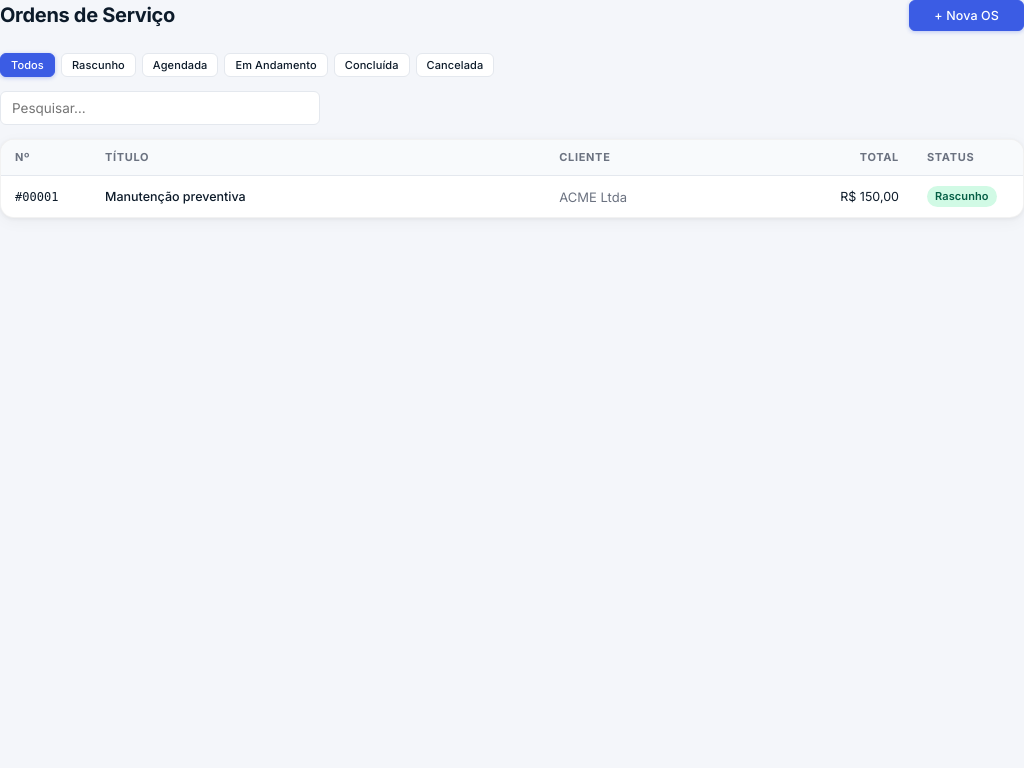
Test: ServiceOrdersPage — edição de OS (regra: editável só em draft) › OS em draft mostra o botão Editar
What coordinates should you click on to do the following:
click the text "#00001"
I would click on:
 (19, 197)
Its box is [15,190,58,204].
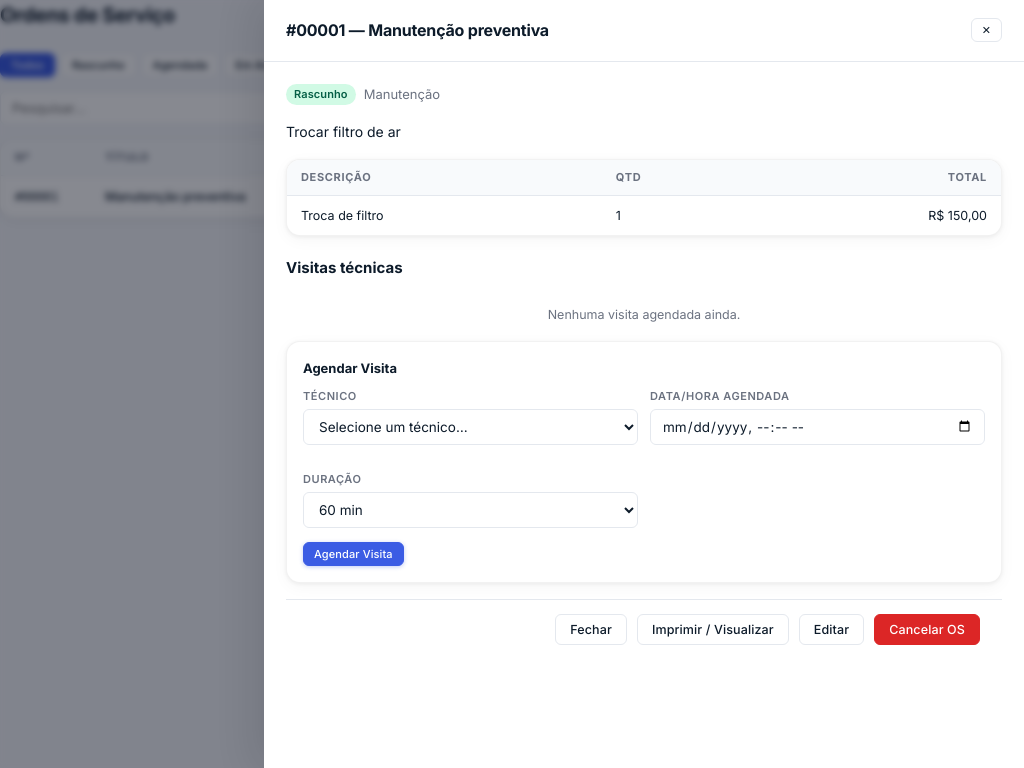
Expected: the button "Editar" is shown, [799,614,864,645]
